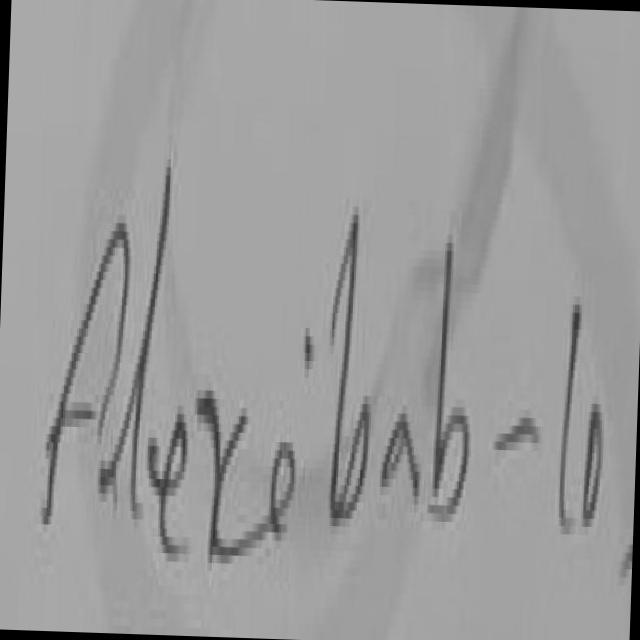0: (578, 373, 611, 545)
1: (540, 264, 590, 558)
F: (21, 172, 150, 550)
a: (374, 350, 431, 541)
b: (320, 174, 384, 542), (424, 210, 486, 558)
e: (146, 390, 199, 583)
i: (262, 302, 322, 617)
l: (79, 137, 193, 540)
x: (189, 369, 263, 588)
